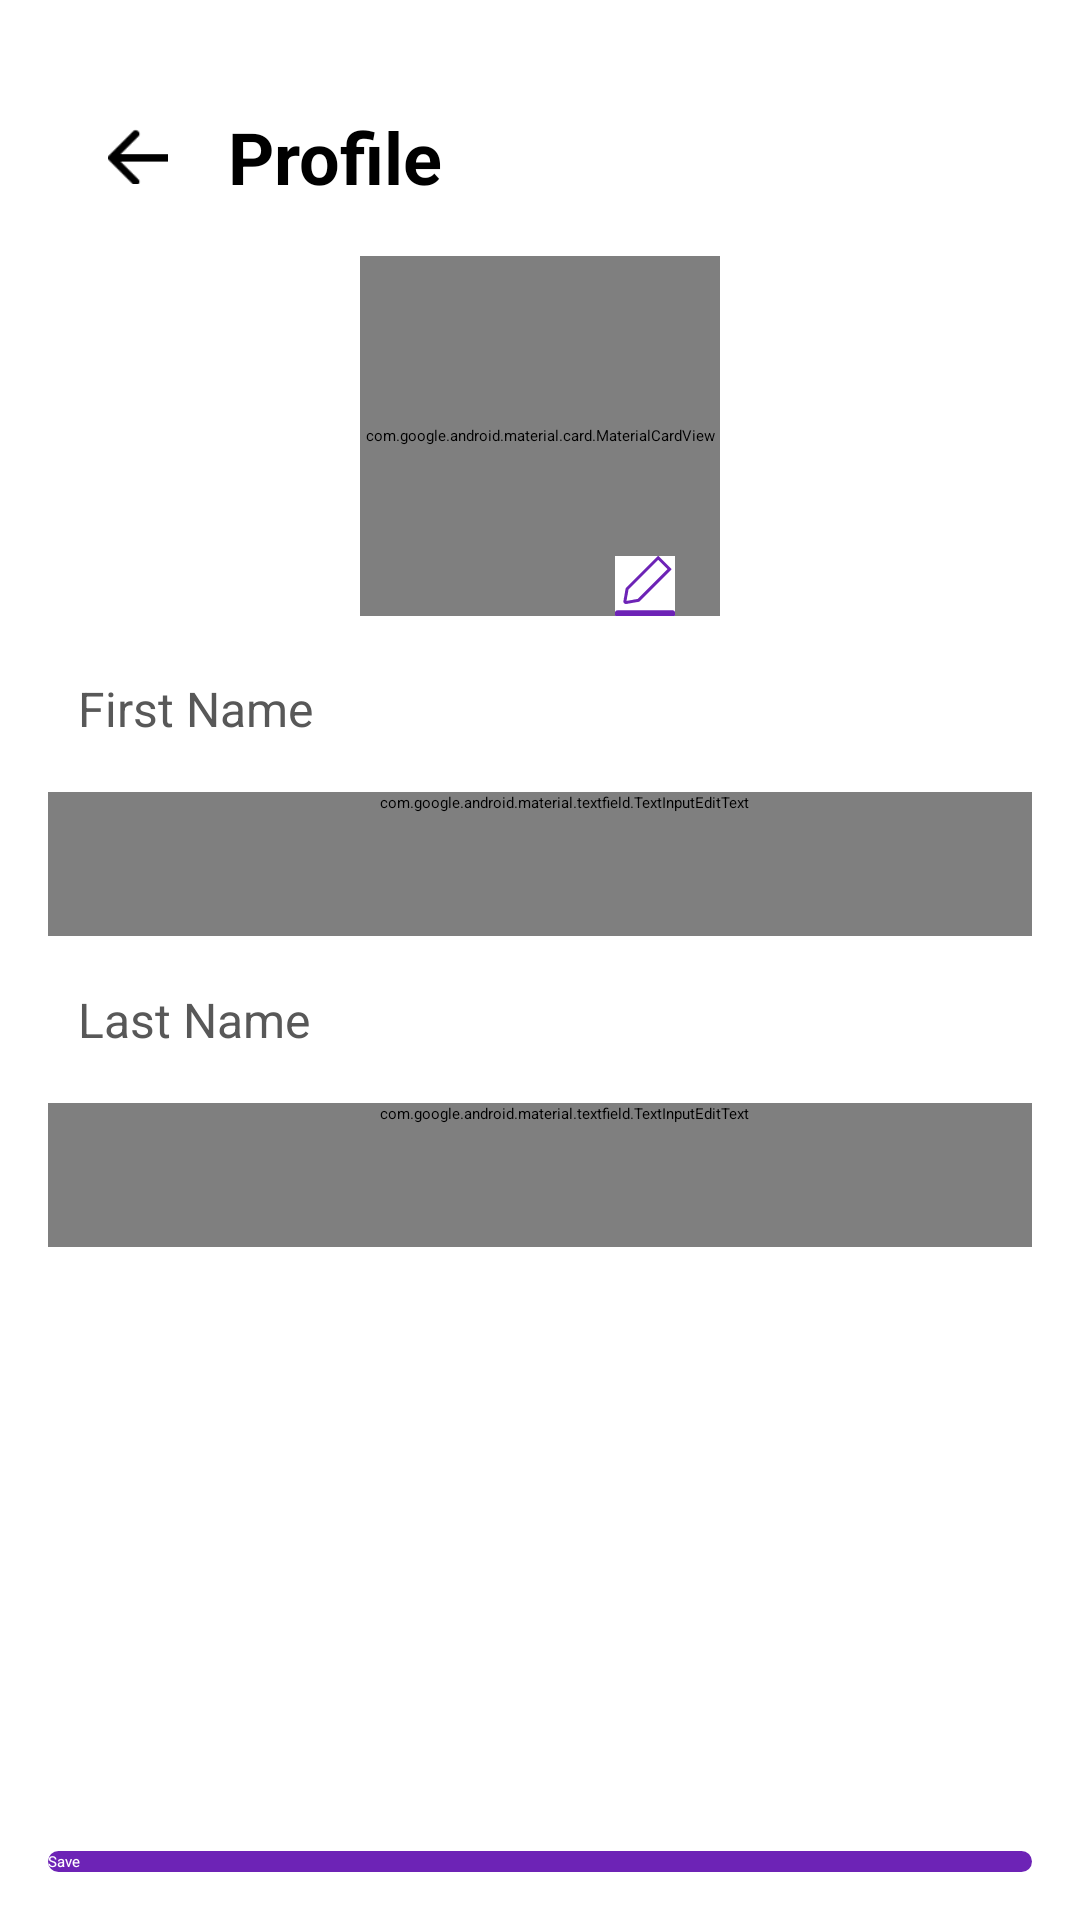

Where to tap for icons on this 1080px x 1920px app screen, as (x=x, y=y):
back arrow: (x=138, y=157)
